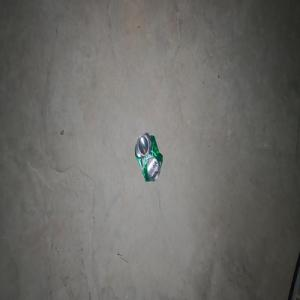SodaCan: (134, 131, 162, 182)
